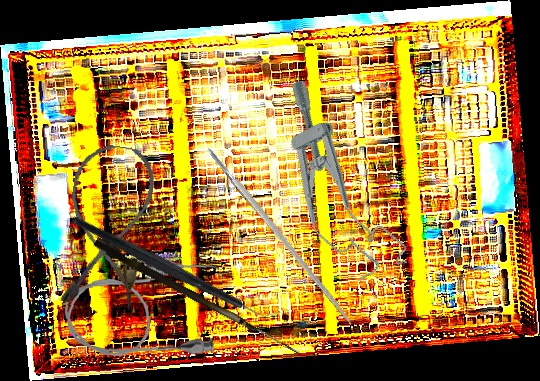Cannula: (55, 140, 159, 313), (61, 255, 226, 364)
Chopper: (68, 156, 285, 378)
Hook Surgical: (91, 236, 306, 356)
Scalpel Handle: (204, 143, 356, 328)
Speculum: (250, 71, 414, 295)
